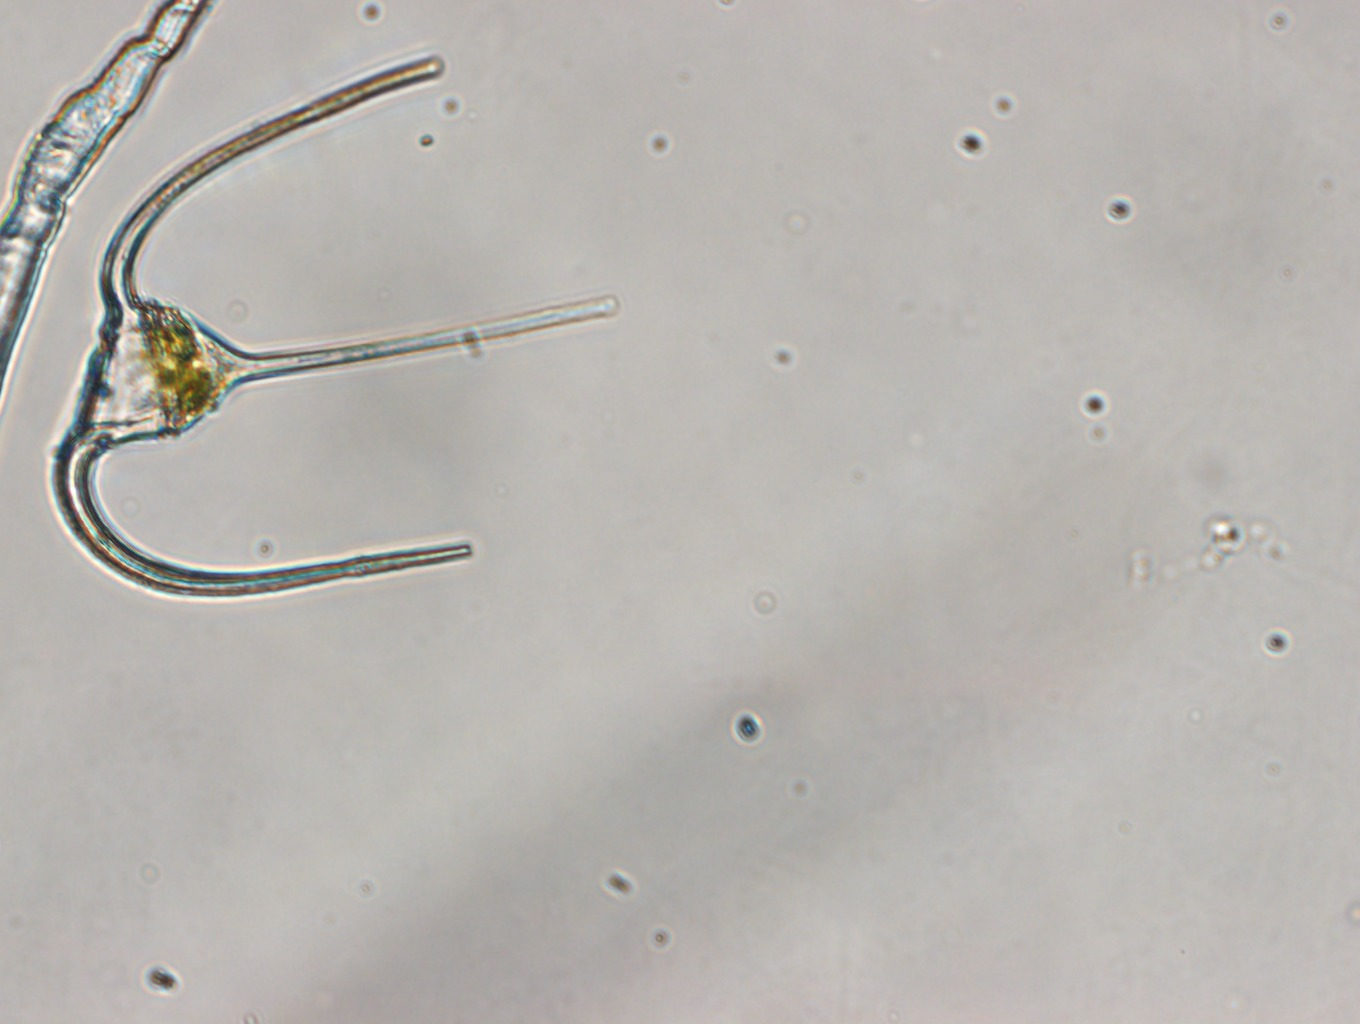ceratium trichoceros: (55, 217, 620, 598)
